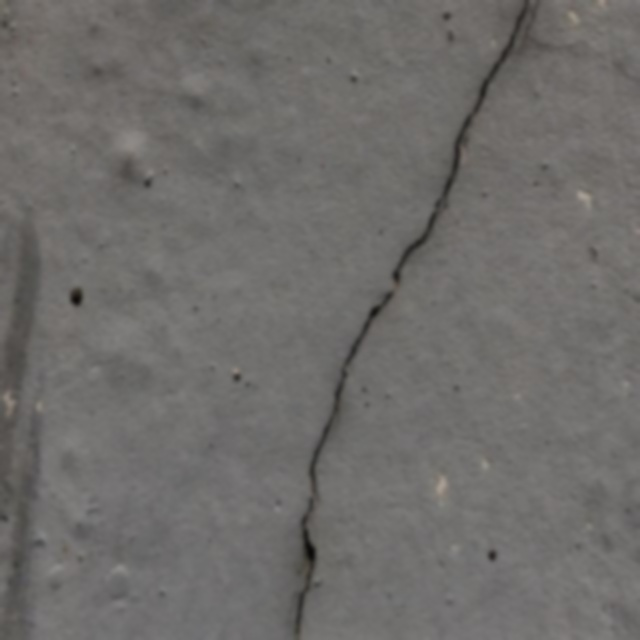SurfaceCrack: (262, 0, 563, 639)
